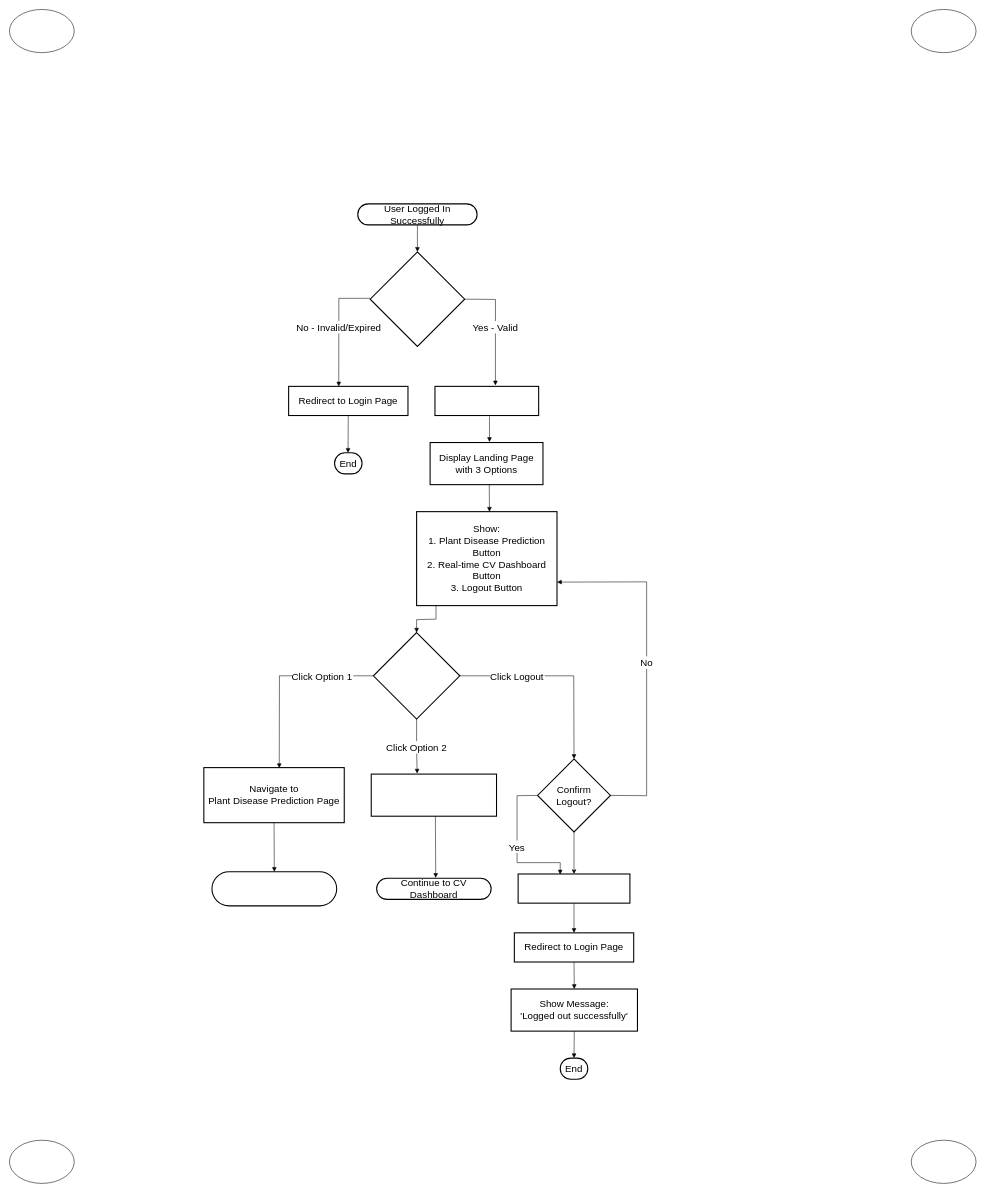
The diagram is 986 pixels wide and 1193 high, and some of its shapes have lost their labels. Each missing label, with the centre of its shape:
Check User Session Valid?: the point at 417,299
Continue to Disease Prediction: the point at 274,888
Destroy User Session: the point at 573,888
Load Landing Page: the point at 486,401
Navigate to Real-time CV Dashboard: the point at 433,794
Wait for User Action: the point at 416,675
